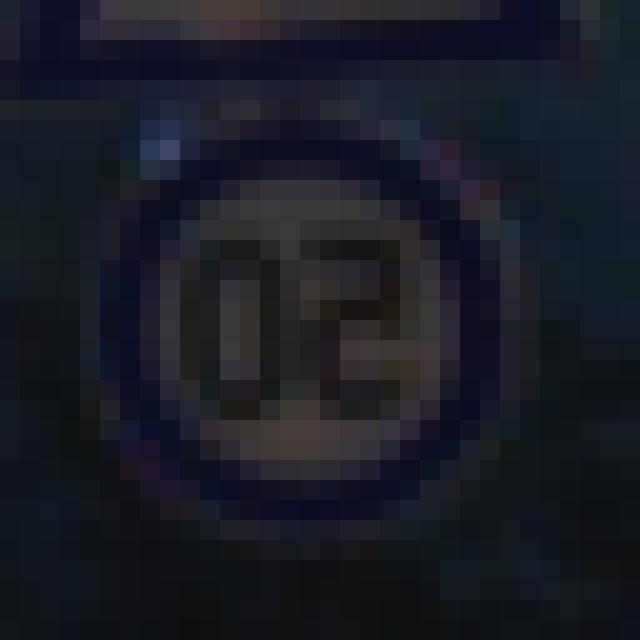SPEED LIMIT 50: (84, 138, 508, 496)
